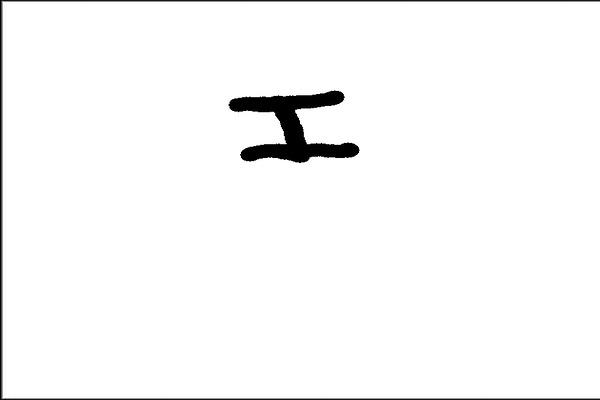i: (223, 78, 366, 177)
